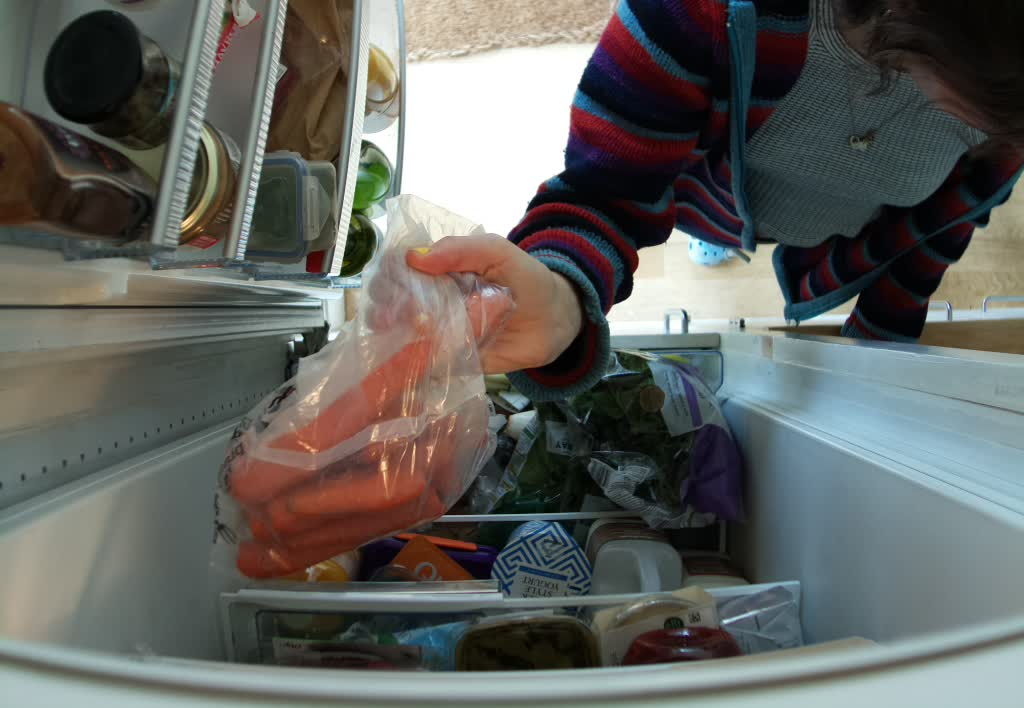carrot: (224, 319, 459, 582)
